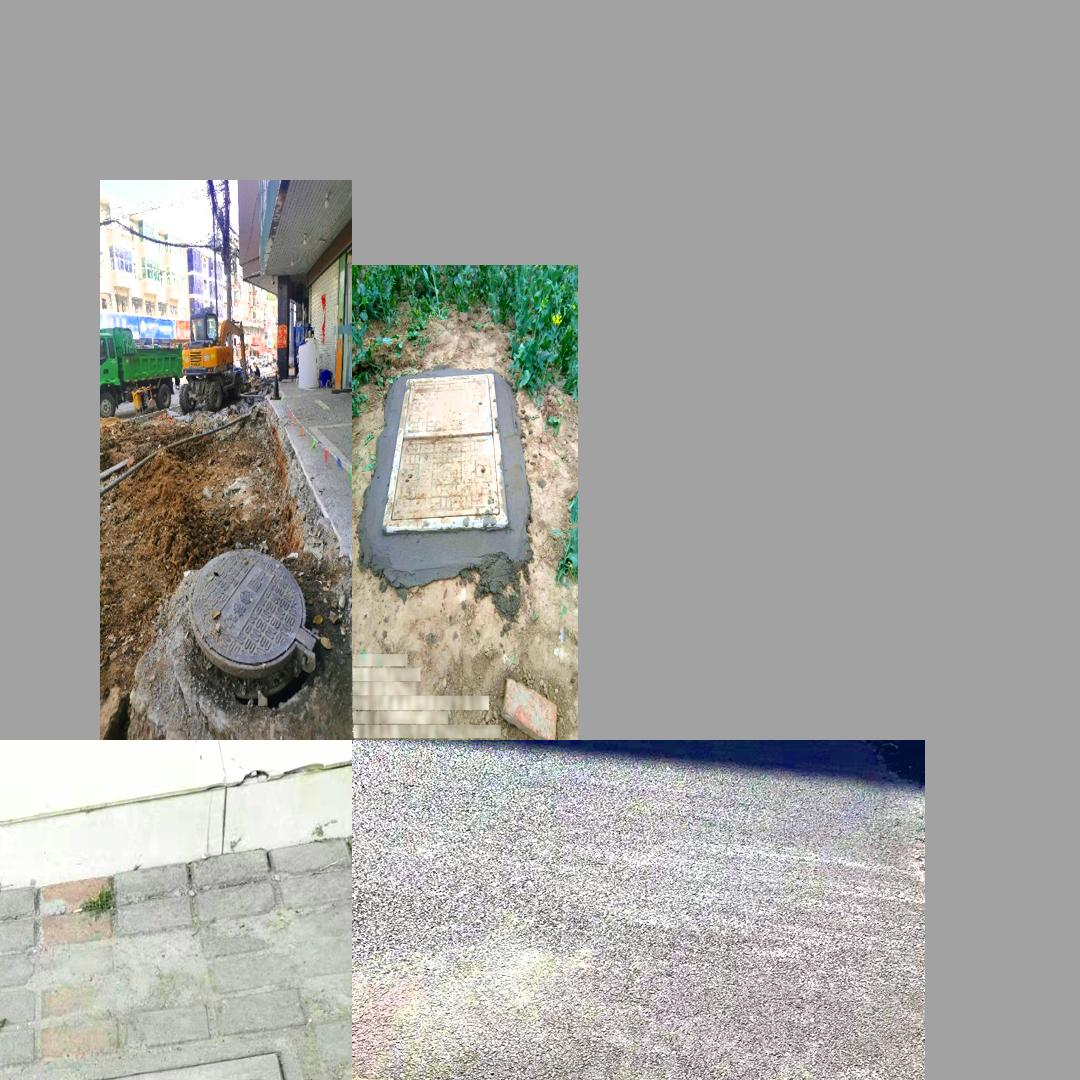good: (381, 376, 506, 539), (189, 548, 317, 690), (0, 1038, 352, 1080)
